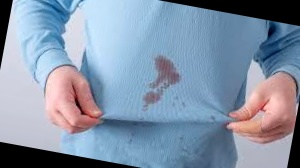blood: (142, 54, 183, 114)
